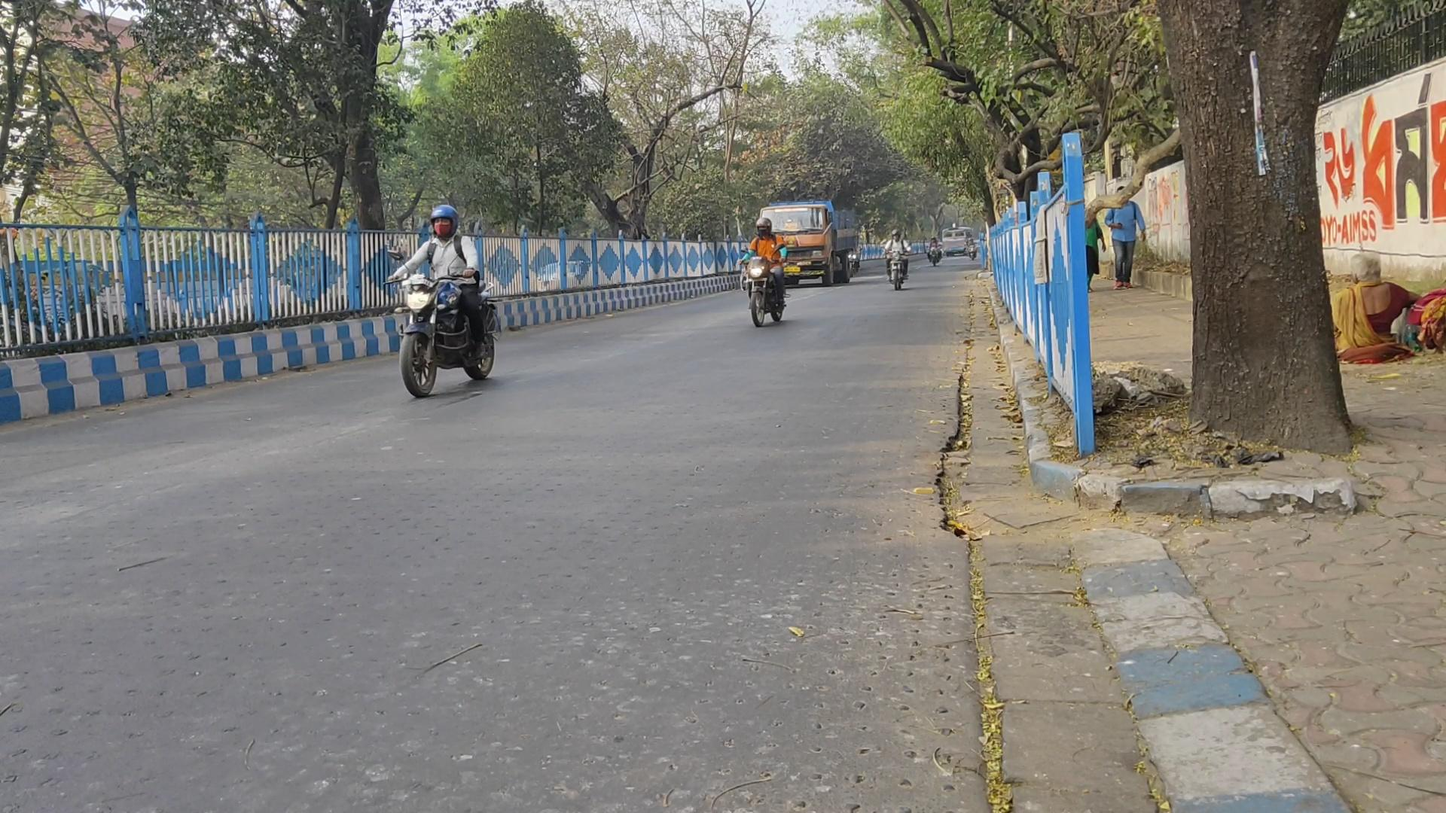Bus: (941, 225, 971, 260)
bike: (386, 206, 499, 397), (739, 217, 788, 327), (883, 227, 913, 292), (926, 233, 944, 268)
truck: (758, 200, 859, 288)
